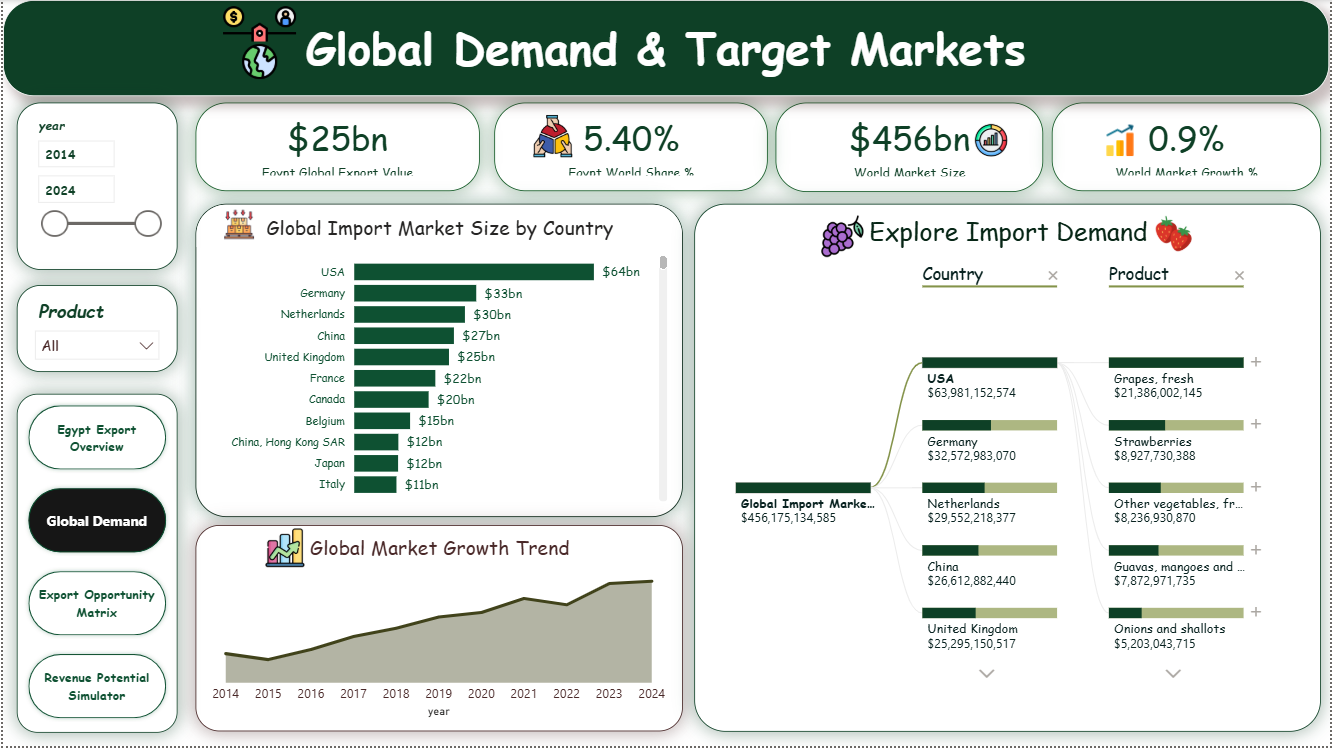

The dashboard page shown, as its layout file describes it:
{"tool":"powerbi","page":{"name":"Global Demand","canvas":[1280,720],"ordinal":1},"visuals":[{"type":"card","fields":{"Values":["world_share.World Market Size"]},"box":[745,99.2,258.7,86.6],"z":0},{"type":"card","fields":{"Values":["world_share.Egypt Global Export Value"]},"box":[185.4,99.4,274,86],"z":1000},{"type":"card","fields":{"Values":["world_share.World Market Growth %"]},"box":[1011.9,99.4,259.7,86],"z":2000},{"type":"card","fields":{"Values":["world_share.Egypt World Share %"]},"box":[473.7,99.4,264.2,86],"z":3000},{"type":"barChart","fields":{"Category":["DIM_COUNTRY.name"],"Y":["market_share_all.Global Import Market Size"]},"box":[185.2,196.5,470.2,302.5],"z":4000},{"type":"areaChart","title":"Global Market Growth Trend","fields":{"Category":["DIM_YEAR.year"],"Y":["world_share.World Market Size"]},"box":[185.4,507.2,470.1,199.2],"z":5000},{"type":"decompositionTreeVisual","title":"Explore Import Demand","fields":{"Analyze":["market_share_all.Global Import Market Size"],"ExplainBy":["DIM_COUNTRY.name","DIM_PRODUCT.name_en","DIM_PRODUCT.group_en"]},"box":[666.7,196.7,604.6,509.8],"z":6000},{"type":"textbox","box":[0,0,1279.7,93.1],"z":7000},{"type":"slicer","fields":{"Values":["DIM_YEAR.year"]},"box":[12.9,99.2,155.3,161.3],"z":8000},{"type":"slicer","fields":{"Values":["DIM_PRODUCT.name_en"]},"box":[12.9,275.1,155.5,83.8],"z":9000},{"type":"pageNavigator","box":[12.9,379.5,155.3,326.9],"z":10000},{"type":"image","box":[98.2,0,299.6,82.7],"z":11000},{"type":"image","box":[496,106,69.1,50.6],"z":12000},{"type":"image","box":[1058.2,114.8,39.9,41.8],"z":13000},{"type":"image","box":[209.1,196.5,38.9,39.9],"z":14000},{"type":"image","box":[248,499,47.7,58.4],"z":15000},{"type":"image","box":[784,203.3,51.6,50.6],"z":16000},{"type":"image","box":[1107.8,203.3,44.7,45.7],"z":17000},{"type":"image","box":[924,114.8,59.3,41.8],"z":19000}]}

Visuals, with their boxes in screenshot pixels (x1, y1, x2, y2), scaled from the page's 1280x720 canvas onto the 1332x748 screenshot:
card - world_share.World Market Size: BBox(775, 103, 1044, 193)
card - world_share.Egypt Global Export Value: BBox(193, 103, 478, 193)
card - world_share.World Market Growth %: BBox(1053, 103, 1323, 193)
card - world_share.Egypt World Share %: BBox(493, 103, 768, 193)
barChart - DIM_COUNTRY.name x market_share_all.Global Import Market Size: BBox(193, 204, 682, 518)
"Global Market Growth Trend" areaChart: BBox(193, 527, 682, 734)
"Explore Import Demand" decompositionTreeVisual: BBox(694, 204, 1323, 734)
textbox: BBox(0, 0, 1331, 97)
slicer - DIM_YEAR.year: BBox(13, 103, 175, 271)
slicer - DIM_PRODUCT.name_en: BBox(13, 286, 175, 373)
pageNavigator: BBox(13, 394, 175, 734)
image: BBox(102, 0, 414, 86)
image: BBox(516, 110, 588, 163)
image: BBox(1101, 119, 1143, 163)
image: BBox(218, 204, 258, 246)
image: BBox(258, 518, 308, 579)
image: BBox(816, 211, 870, 264)
image: BBox(1153, 211, 1199, 259)
image: BBox(962, 119, 1023, 163)
